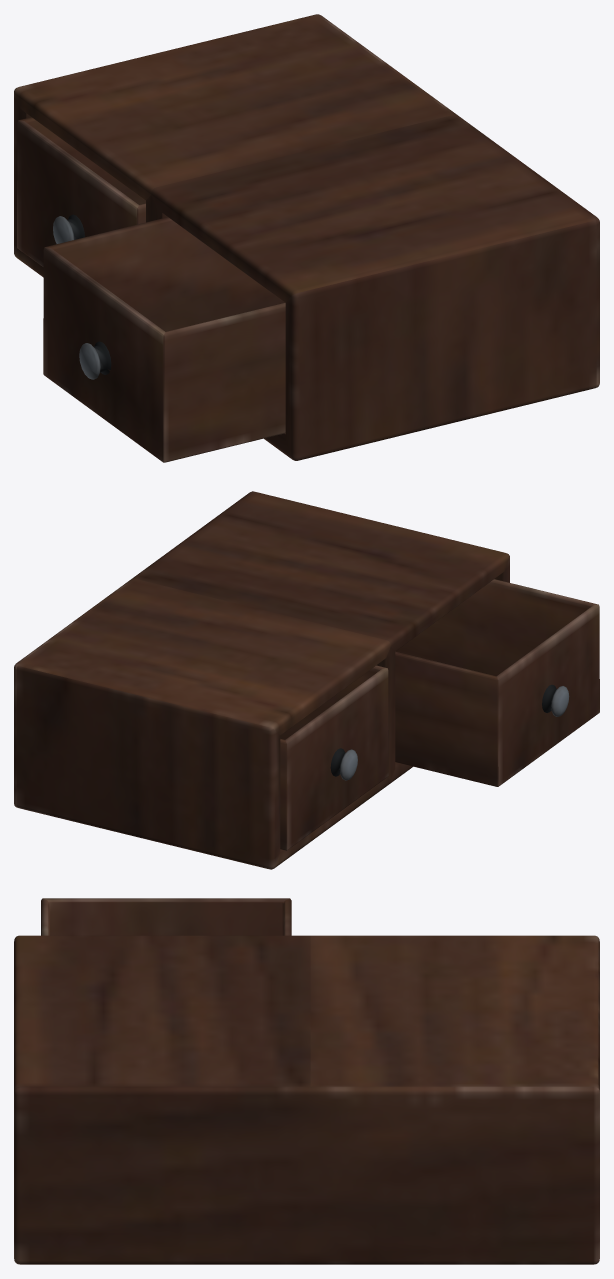
The model's file is SM_TillFrame_Pack6.fbx.
The picture shows the model from 3 angles, top to bottom: view 1: azimuth 30°, elevation 25°; view 2: azimuth 150°, elevation 25°; view 3: azimuth 270°, elevation 25°; orthographic projection. The views are drawn at different scales.
Visible parts, largest first — view 1: SM_TillFrame_Pack6_LOD0; view 2: SM_TillFrame_Pack6_LOD0; view 3: SM_TillFrame_Pack6_LOD0.
Boxes of the visible parts, box(x1,y1,x2,y2) form: SM_TillFrame_Pack6_LOD0: box(14, 14, 599, 462); SM_TillFrame_Pack6_LOD0: box(14, 491, 599, 869); SM_TillFrame_Pack6_LOD0: box(14, 898, 599, 1264).
Size of the model in its own units: 43 by 47.39 by 15.79.
Materials: 1 (1 with a texture image).
